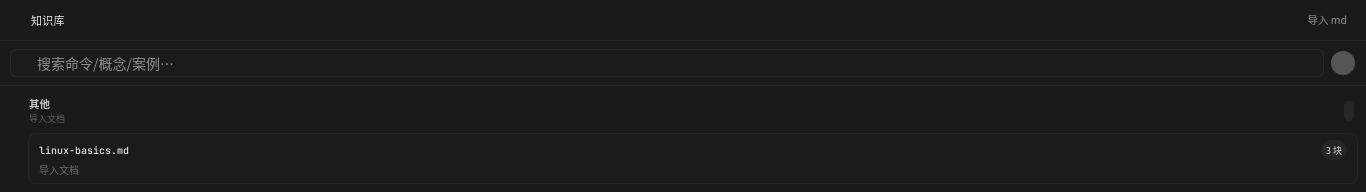
Scenario: KnowledgePanel — 浏览模式 › list_files 懒加载缓存：折叠再展开同组不重复请求
The width and height of the screenshot is (1366, 192).
Expected: the text "linux-basics.md" is shown, [39,144,129,157]
Click the text "其他". click: (40, 104)
box: [29,96,50,111]
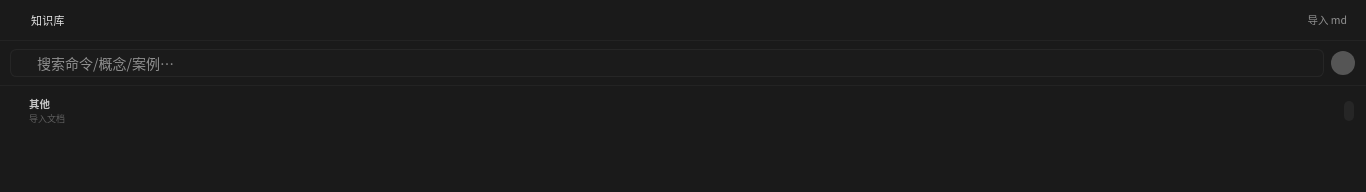
Result: the button "linux-basics.md" is gone
Click the text "其他". click: (40, 104)
box: [29,96,50,111]
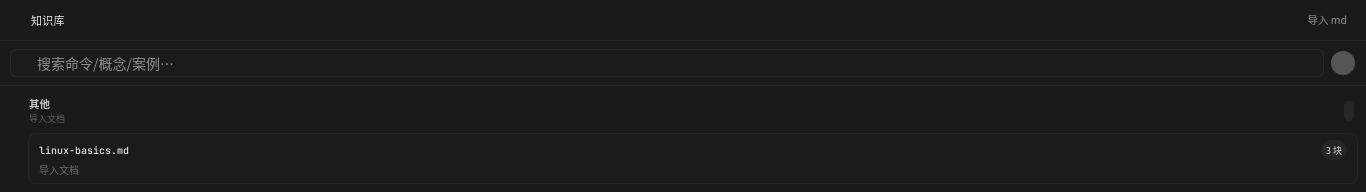
Result: the text "linux-basics.md" is shown at [39,144,129,157]
